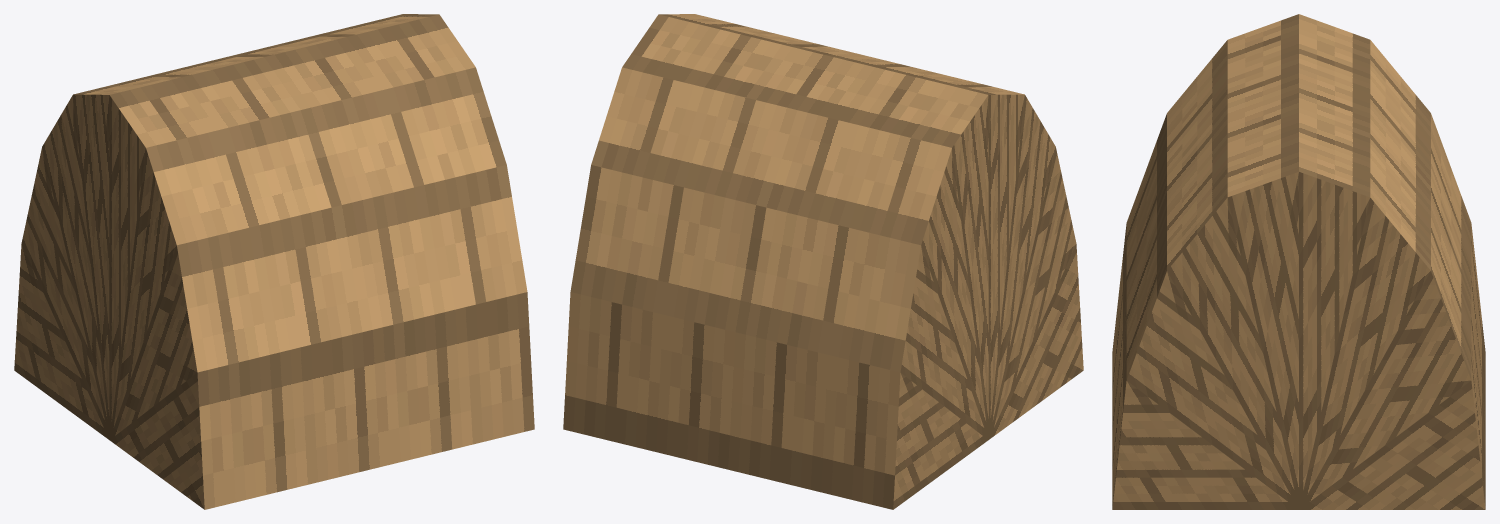
File: vault_mudbrick.glb
The picture shows the model from 3 angles, left to right: view 1: azimuth 30°, elevation 25°; view 2: azimuth 150°, elevation 25°; view 3: azimuth 270°, elevation 25°; orthographic projection. The views are drawn at different scales.
Visible parts, largest first — view 1: vault_mudbrick; view 2: vault_mudbrick; view 3: vault_mudbrick.
Boxes of the visible parts, <box> form: vault_mudbrick: <box>14,14,534,509</box>; vault_mudbrick: <box>563,14,1083,509</box>; vault_mudbrick: <box>1112,14,1485,509</box>.
Bounding box in the file's own units: 1 × 1 × 1.
Materials: 1 (1 with a texture image).
